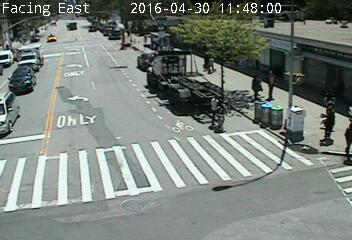neg: (279, 5, 299, 30), (31, 149, 50, 173), (164, 71, 182, 95), (139, 52, 155, 73), (30, 49, 46, 70), (319, 33, 333, 51), (137, 6, 150, 24), (61, 63, 74, 80), (189, 10, 202, 27), (94, 72, 106, 88), (73, 112, 84, 127), (319, 10, 330, 25), (121, 27, 131, 40), (110, 105, 120, 118), (227, 13, 237, 26), (83, 34, 92, 47), (174, 122, 183, 134), (134, 134, 142, 146), (45, 31, 52, 39), (19, 125, 24, 132)
pos: (316, 108, 343, 145), (257, 66, 283, 101), (200, 90, 226, 124), (332, 115, 351, 161), (212, 97, 236, 129), (246, 68, 268, 97), (324, 95, 341, 117), (200, 49, 216, 71), (319, 83, 334, 103)
